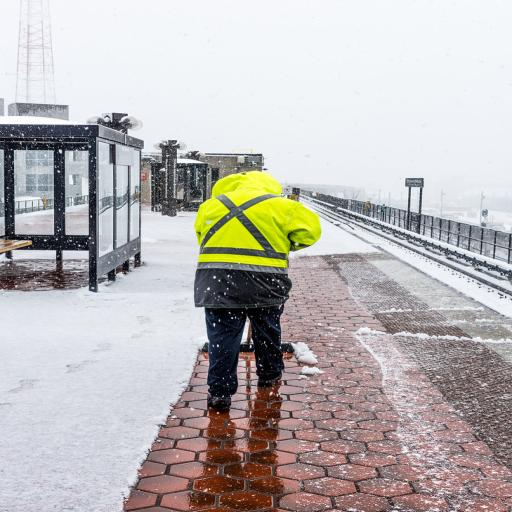platform_edge: (312, 217, 512, 509)
